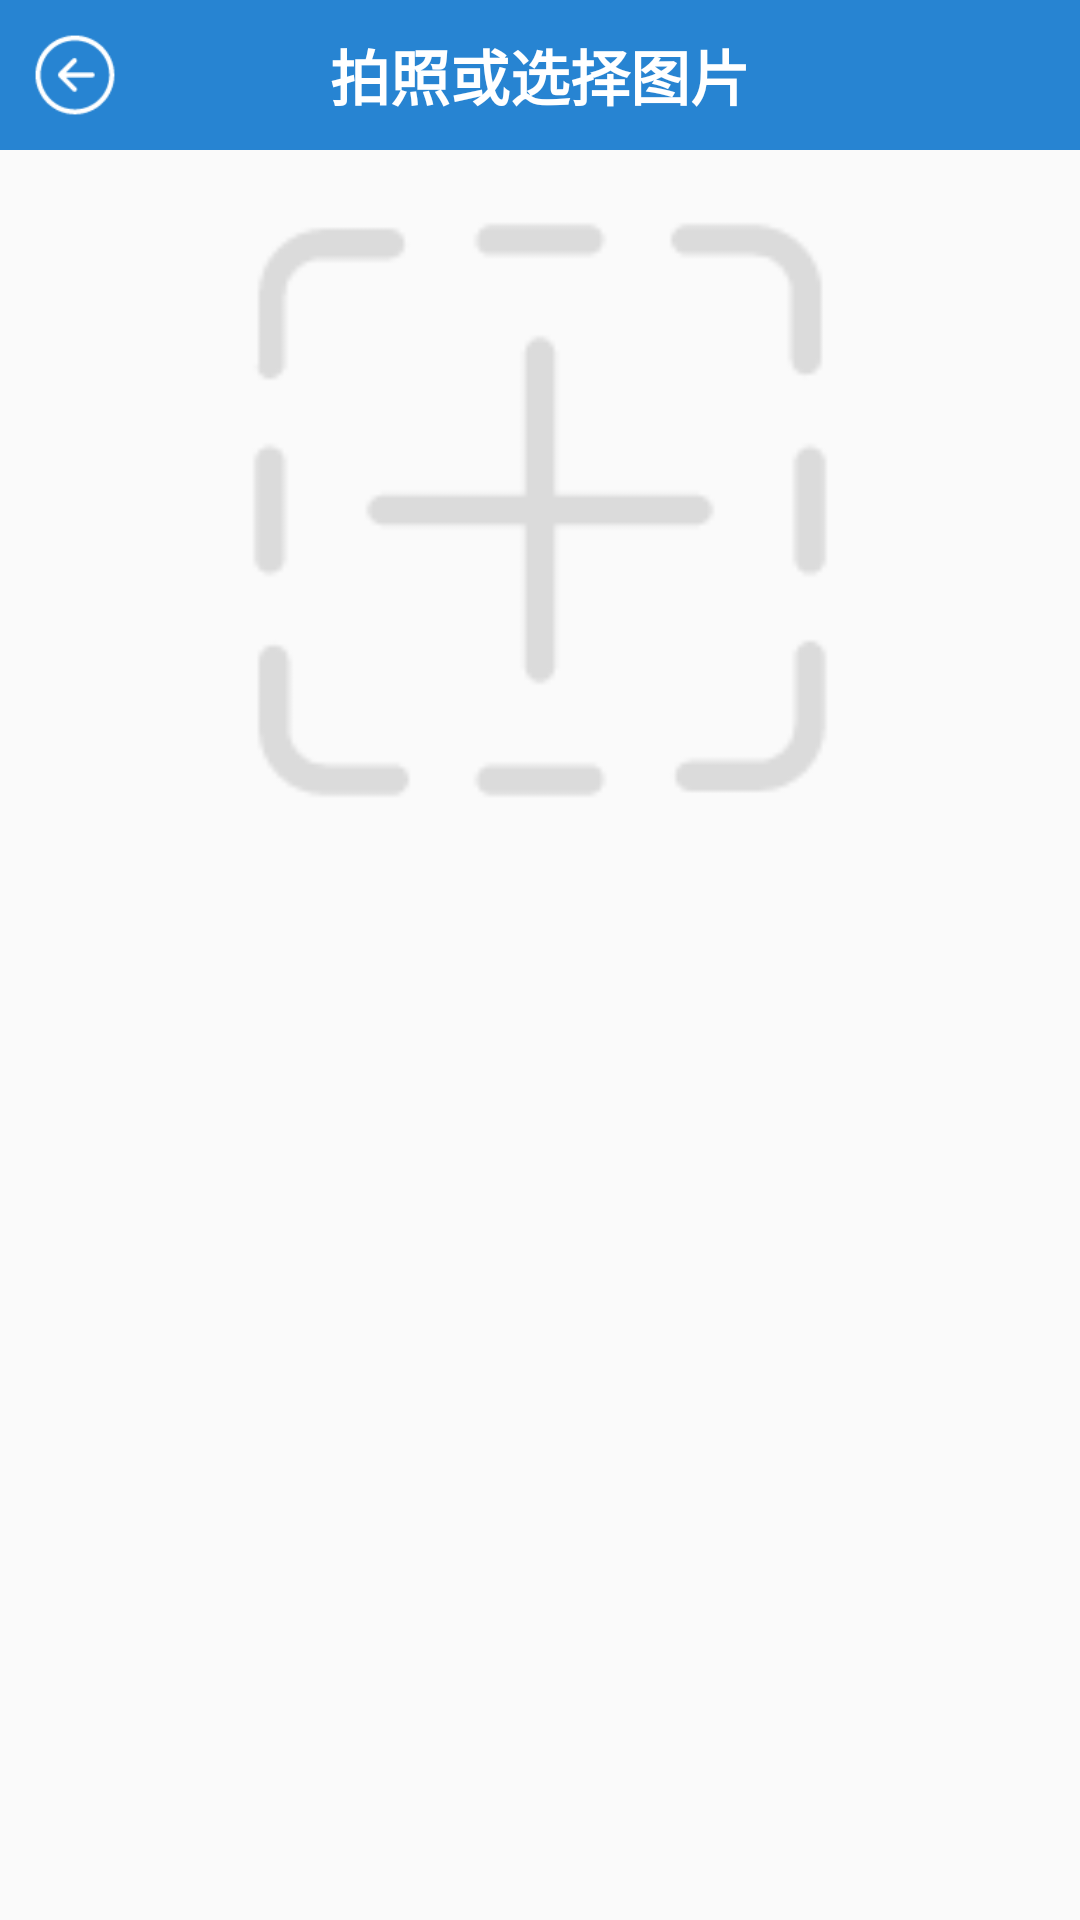

Icons on this 1080px×1920px Android screen, each with the point to tap as (x=x, y=y):
back: (x=75, y=75)
